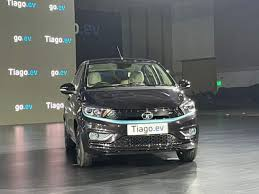Tiago: (58, 55, 203, 170)
